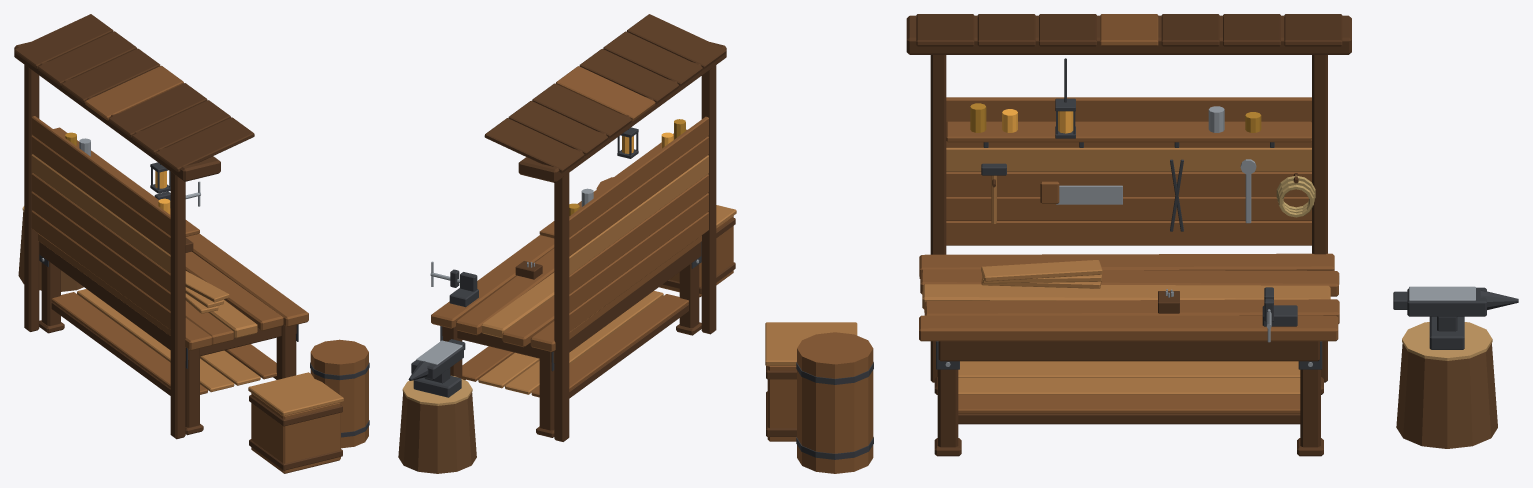
The model's file is WorkshopModel.fbx.
3 views of the same model, side by side, from view 1: azimuth 30°, elevation 25°; view 2: azimuth 150°, elevation 25°; view 3: azimuth 270°, elevation 25° (orthographic). The views are drawn at different scales.
Visible parts, largest first — view 1: WorkshopModel; view 2: WorkshopModel; view 3: WorkshopModel.
Boxes of the visible parts, bbox=[...] form: WorkshopModel: bbox=[14, 14, 369, 473]; WorkshopModel: bbox=[398, 14, 736, 473]; WorkshopModel: bbox=[765, 14, 1518, 473].
Bounding box in the file's own units: 1.5 × 2.66 × 4.74.
